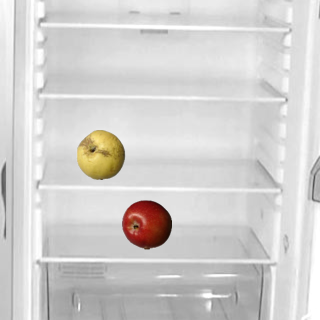Apple Braeburn: (121, 199, 171, 249)
Apple Golden 1: (75, 129, 125, 179)
